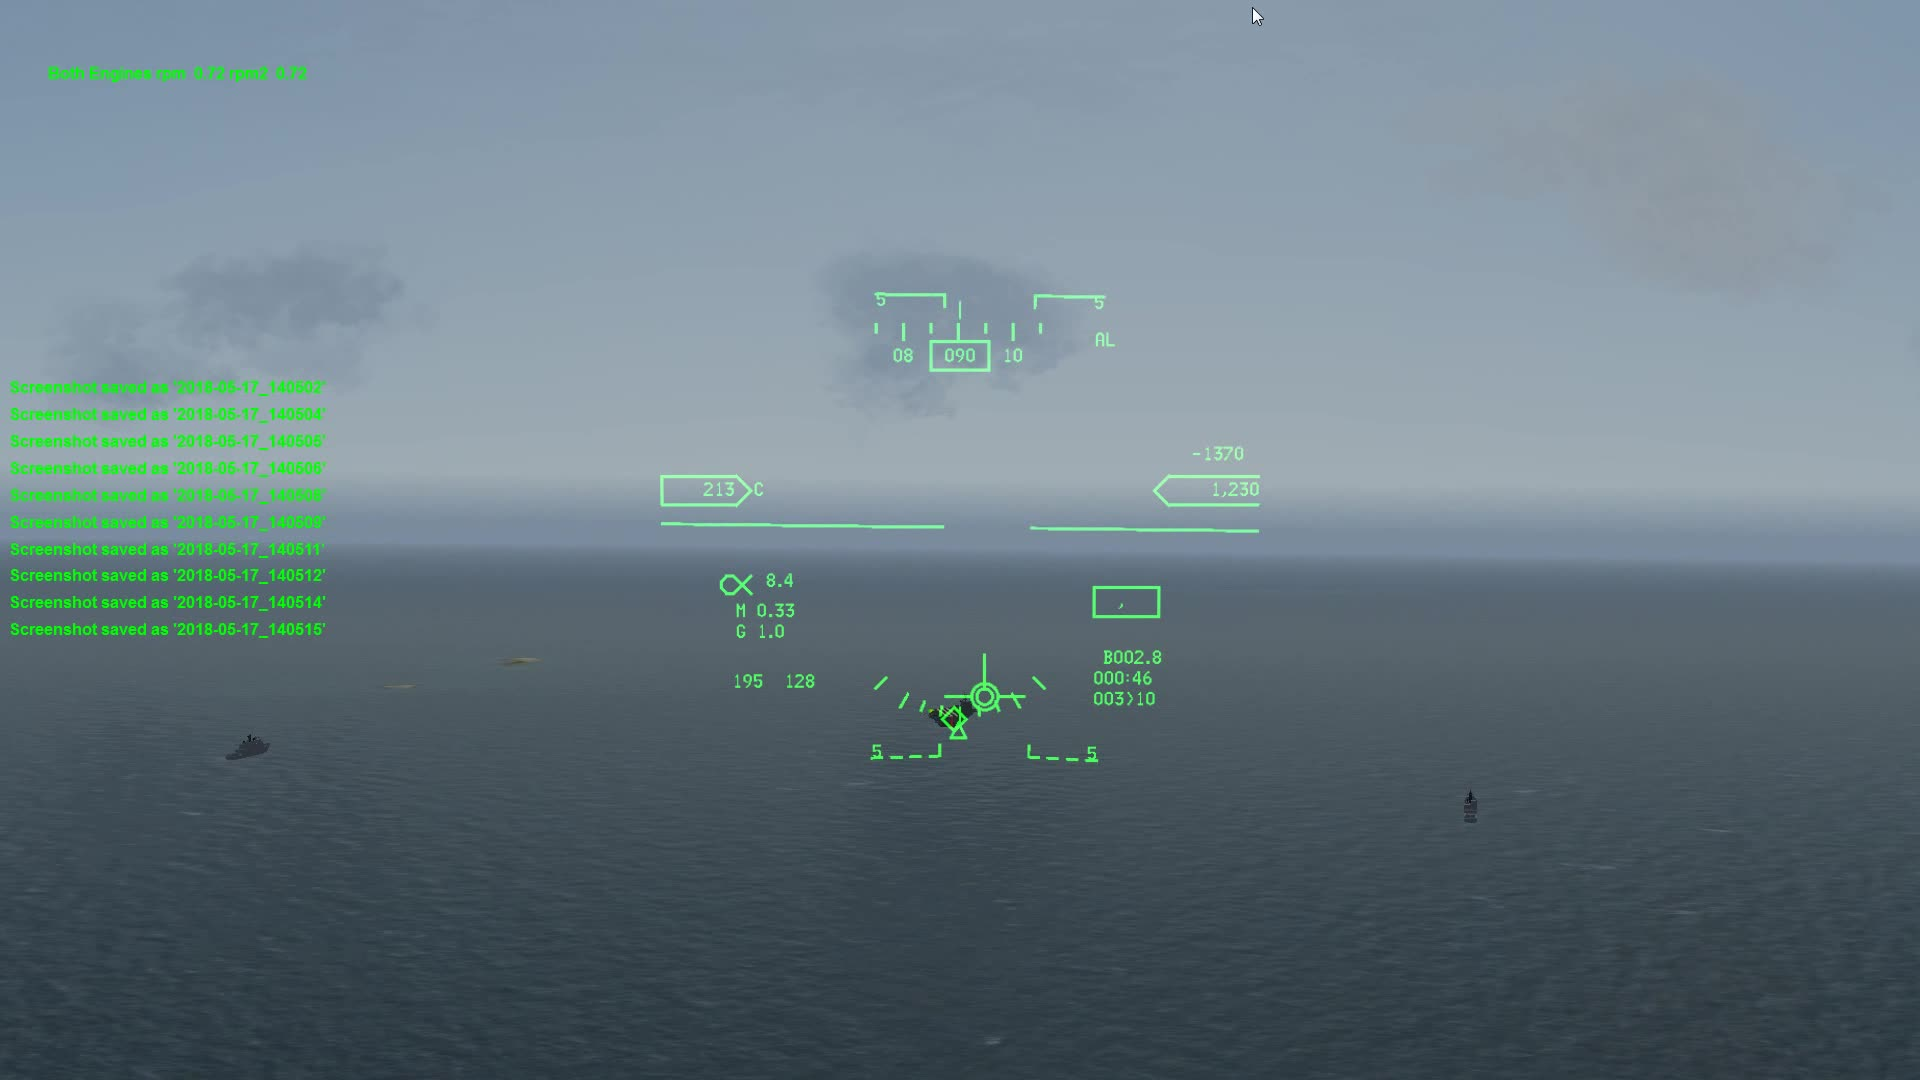speed vector: (939, 644, 1033, 717)
